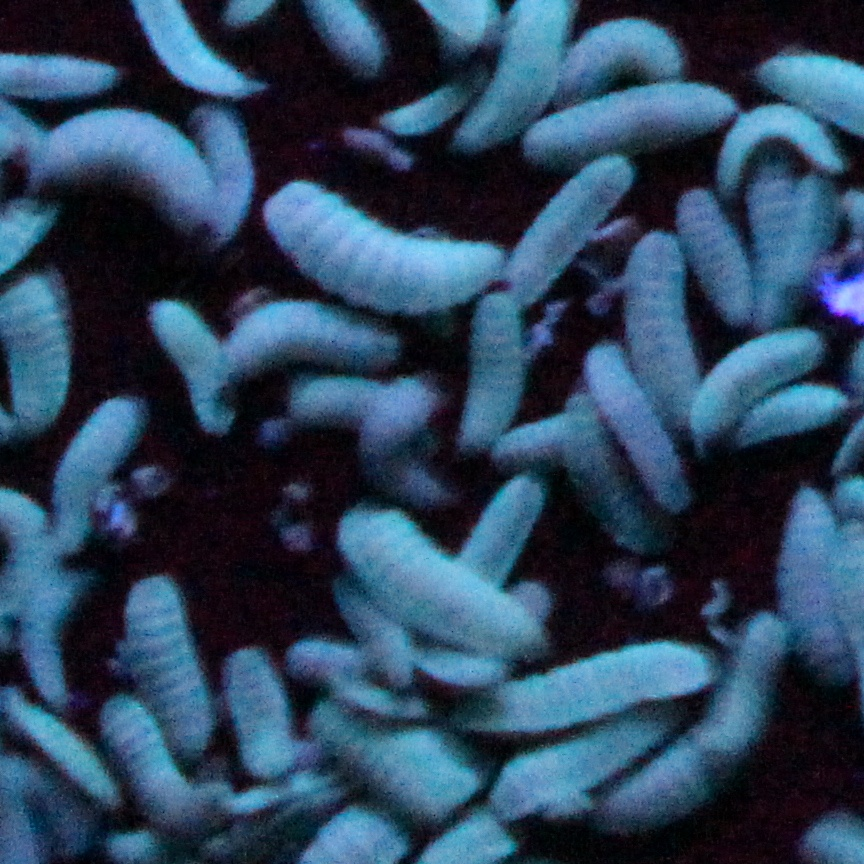larve: (602, 611, 783, 844), (332, 501, 548, 668), (263, 175, 510, 314), (443, 631, 721, 738), (31, 106, 219, 240), (488, 703, 683, 821), (304, 706, 484, 815), (508, 152, 633, 308), (100, 694, 230, 839), (521, 81, 742, 166), (778, 473, 860, 695), (585, 345, 694, 506), (123, 574, 213, 760), (49, 393, 149, 559), (563, 385, 659, 555), (625, 230, 706, 431), (690, 325, 820, 442), (220, 300, 401, 381), (148, 293, 236, 436), (224, 644, 315, 781), (555, 19, 685, 109), (716, 103, 844, 192), (331, 564, 421, 688), (674, 189, 752, 331), (743, 154, 802, 336), (459, 286, 522, 452), (455, 474, 540, 592), (290, 372, 432, 442), (183, 110, 256, 241), (730, 385, 846, 463), (379, 64, 489, 140), (358, 380, 446, 469), (782, 173, 838, 290), (305, 808, 411, 864), (19, 611, 76, 712), (486, 411, 574, 472), (423, 818, 529, 861), (292, 635, 382, 684)
